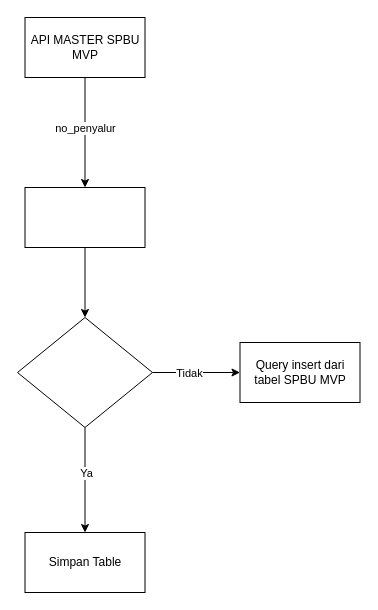
Image size: 378x610. Some labels were removed from this diagram. The centre of each missing label's shape, as x and y in pixels:
API SPBU PROFILE: point (84, 217)
Dapat SPBU Profile?: point (84, 372)
